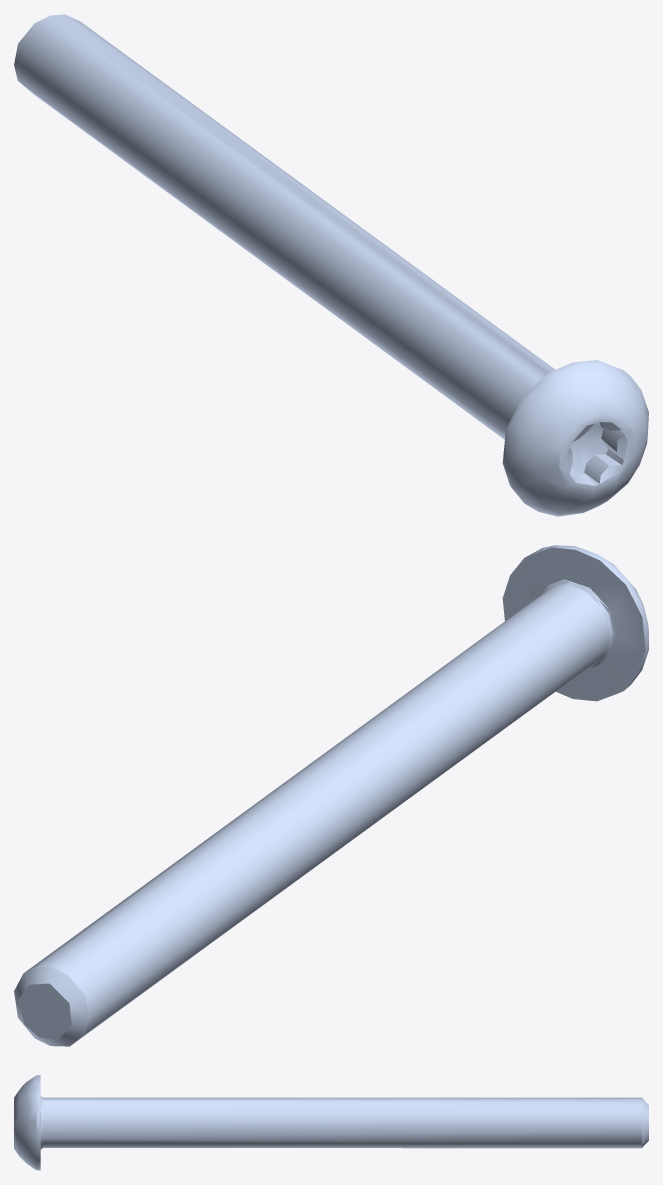
The model's file is _8-32_x_2_000_Star_Drive_Screw__276-5004_.glb.
3 views of the same model, one above another, from view 1: azimuth 30°, elevation 25°; view 2: azimuth 150°, elevation 25°; view 3: azimuth 270°, elevation 25° (orthographic). The views are drawn at different scales.
Parts seen in each view (by area): view 1: #8-32 x 2.000 Star Drive Screw (276-5004); view 2: #8-32 x 2.000 Star Drive Screw (276-5004); view 3: #8-32 x 2.000 Star Drive Screw (276-5004).
Boxes of the visible parts, x1=… form: #8-32 x 2.000 Star Drive Screw (276-5004): x1=14, y1=14, x2=648, y2=516; #8-32 x 2.000 Star Drive Screw (276-5004): x1=14, y1=545, x2=648, y2=1046; #8-32 x 2.000 Star Drive Screw (276-5004): x1=14, y1=1075, x2=648, y2=1170.
Bounding box in the file's own units: 0.3123 × 0.3131 × 2.09.
